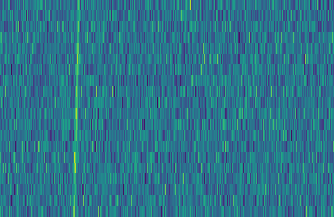signal: (67, 0, 81, 217)
